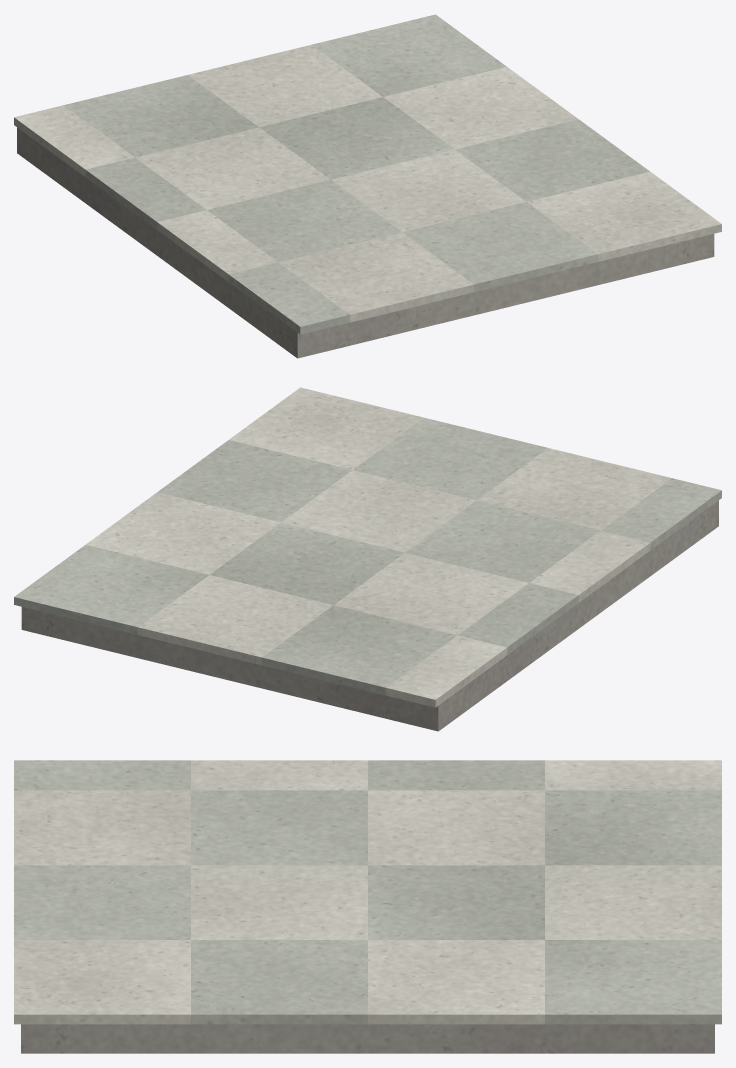
File: floor_vct_g_e30_0_0_0.glb
3 renders of one model, top to bottom at view 1: azimuth 30°, elevation 25°; view 2: azimuth 150°, elevation 25°; view 3: azimuth 270°, elevation 25°, orthographic. The views are drawn at different scales.
Visible parts, largest first — view 1: floor_vct_g_e30_0_0_0_vct, floor_vct_g_e30_0_0_0_vct2, floor_vct_g_e30_0_0_0_concrete; view 2: floor_vct_g_e30_0_0_0_vct2, floor_vct_g_e30_0_0_0_vct, floor_vct_g_e30_0_0_0_concrete; view 3: floor_vct_g_e30_0_0_0_vct, floor_vct_g_e30_0_0_0_vct2, floor_vct_g_e30_0_0_0_concrete.
Boxes of the visible parts, x1,y1,x2,y2 form: floor_vct_g_e30_0_0_0_vct: [14, 44, 721, 322]; floor_vct_g_e30_0_0_0_vct2: [64, 14, 649, 334]; floor_vct_g_e30_0_0_0_concrete: [17, 127, 714, 358]; floor_vct_g_e30_0_0_0_vct2: [14, 417, 721, 695]; floor_vct_g_e30_0_0_0_vct: [86, 387, 671, 707]; floor_vct_g_e30_0_0_0_concrete: [21, 500, 718, 731]; floor_vct_g_e30_0_0_0_vct: [14, 760, 721, 1024]; floor_vct_g_e30_0_0_0_vct2: [14, 760, 721, 1024]; floor_vct_g_e30_0_0_0_concrete: [21, 1024, 714, 1053].
Bounding box in the file's own units: 1.7 × 0.13 × 2.
Materials: 3 (3 with a texture image).
